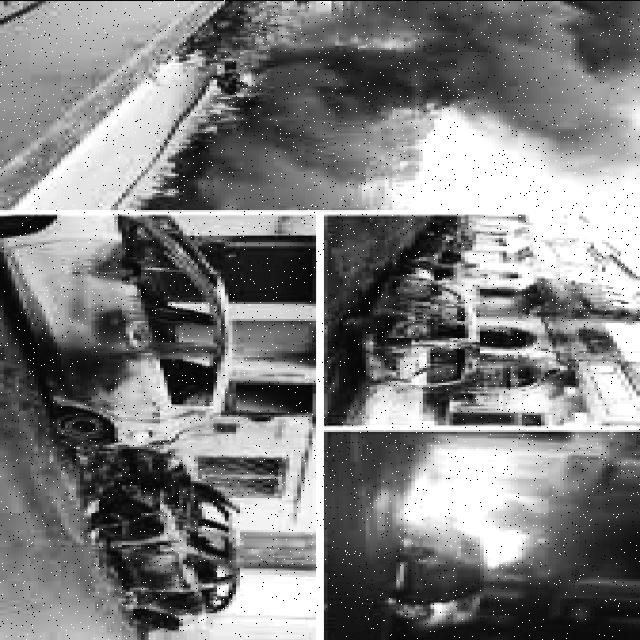api: (115, 54, 287, 206), (390, 488, 542, 626)
